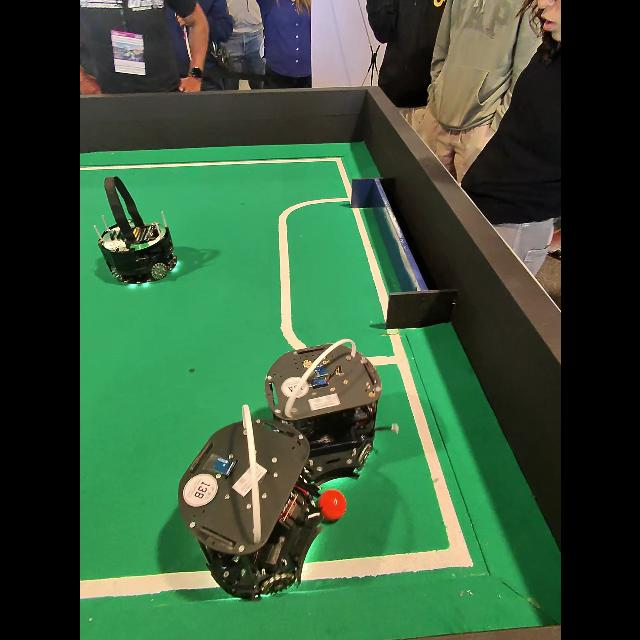ball: (317, 489, 345, 522)
goal: (350, 178, 456, 328)
robot: (177, 405, 319, 600), (265, 345, 380, 481), (97, 177, 176, 283)
